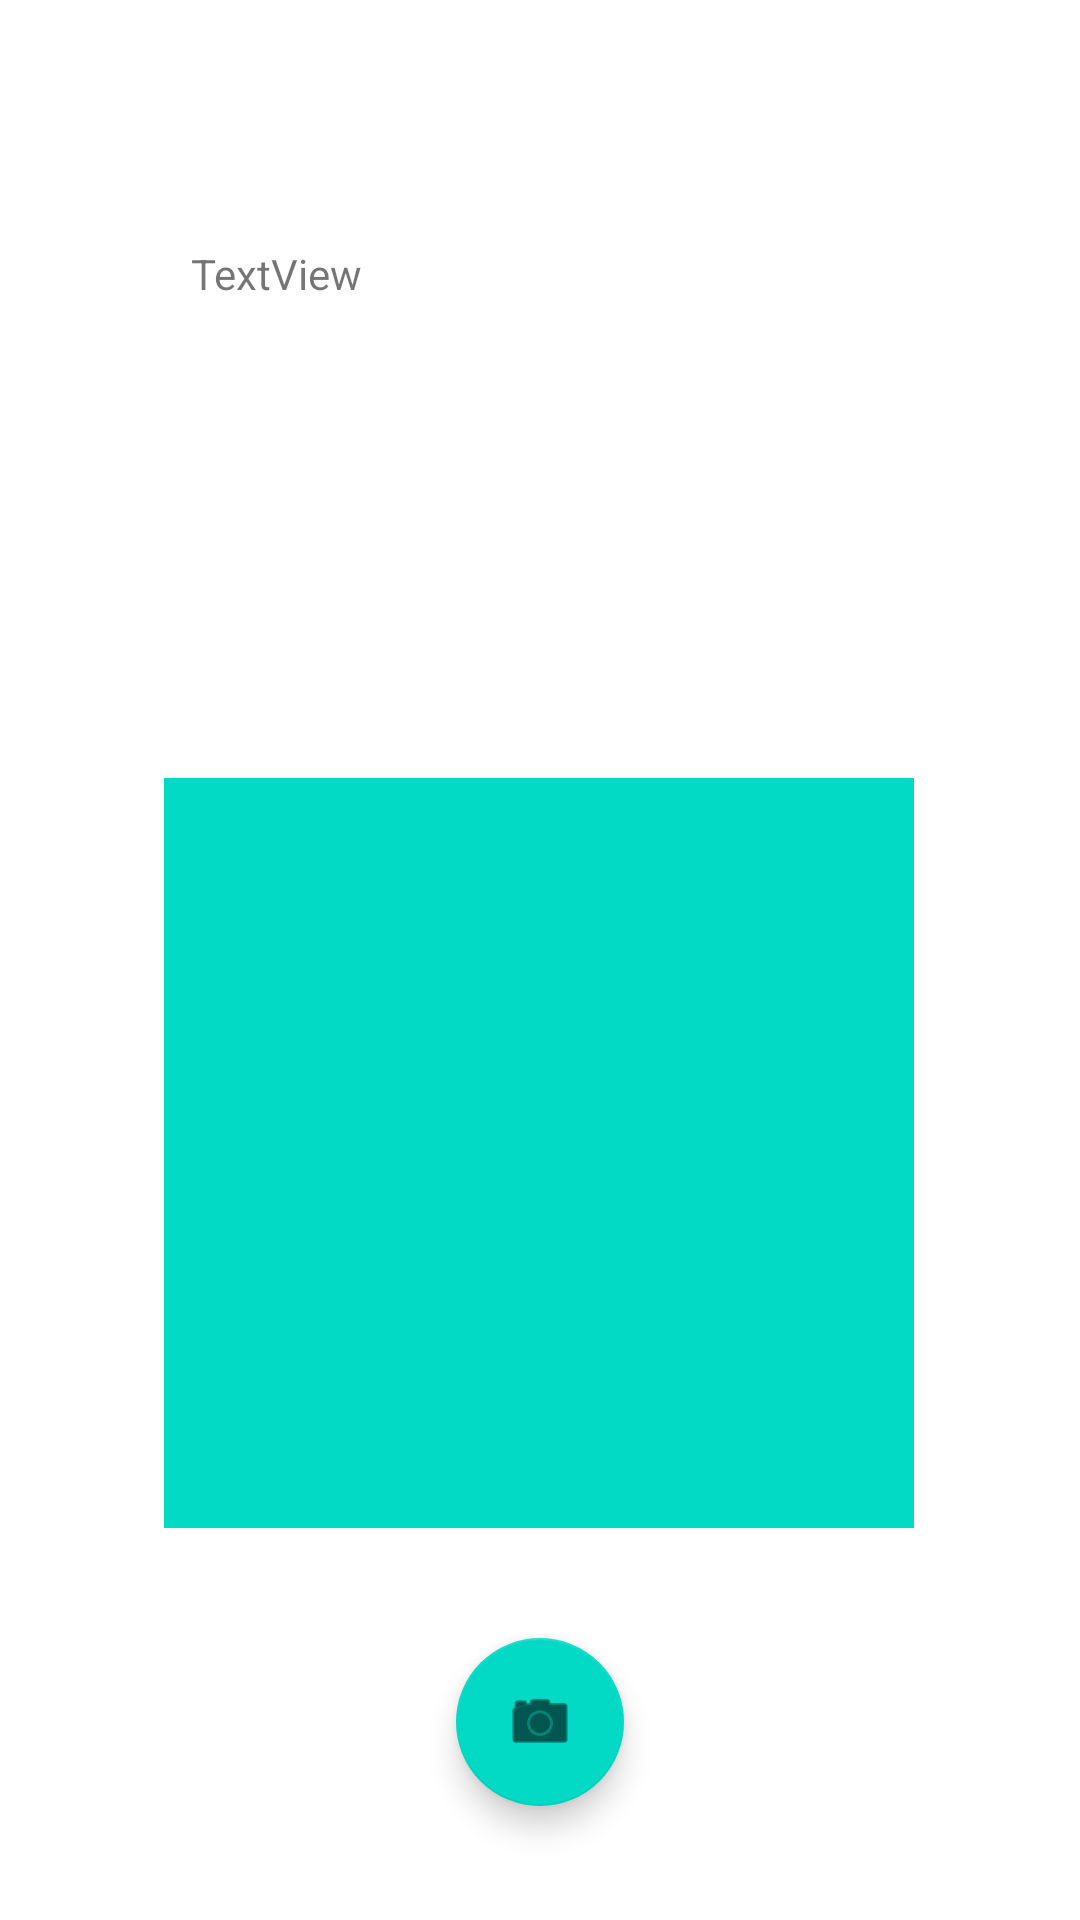

Screen size 1080 x 1920. Icon name, then its box in pixels as bbox=(x1, y1, x2, y2):
camera: bbox=(456, 1638, 624, 1806)
